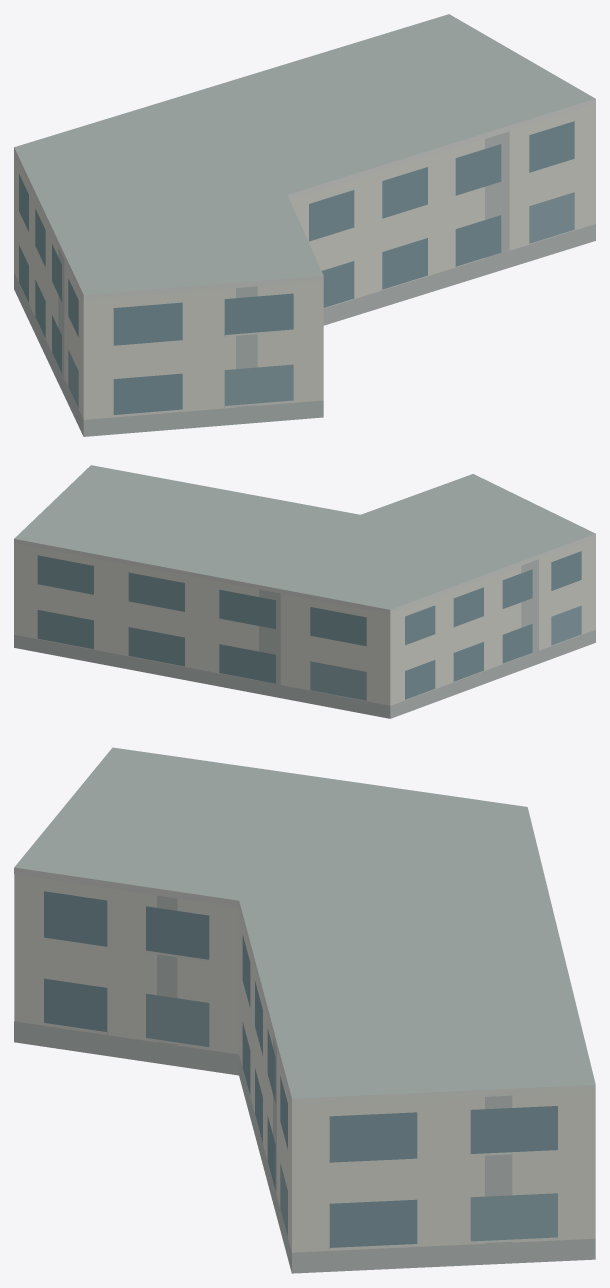
File: survey-upis-32889085.glb
3 renders of one model, top to bottom at view 1: azimuth 30°, elevation 25°; view 2: azimuth 150°, elevation 25°; view 3: azimuth 270°, elevation 25°, orthographic. The views are drawn at different scales.
Visible parts, largest first — view 1: survey-upis-32889085.tmp; view 2: survey-upis-32889085.tmp; view 3: survey-upis-32889085.tmp.
Part boxes in pixels (<box>): survey-upis-32889085.tmp: <box>14,14,595,436</box>; survey-upis-32889085.tmp: <box>14,465,595,718</box>; survey-upis-32889085.tmp: <box>14,747,595,1273</box>.
Bounding box in the file's own units: 26.31 × 6.1 × 18.41.
